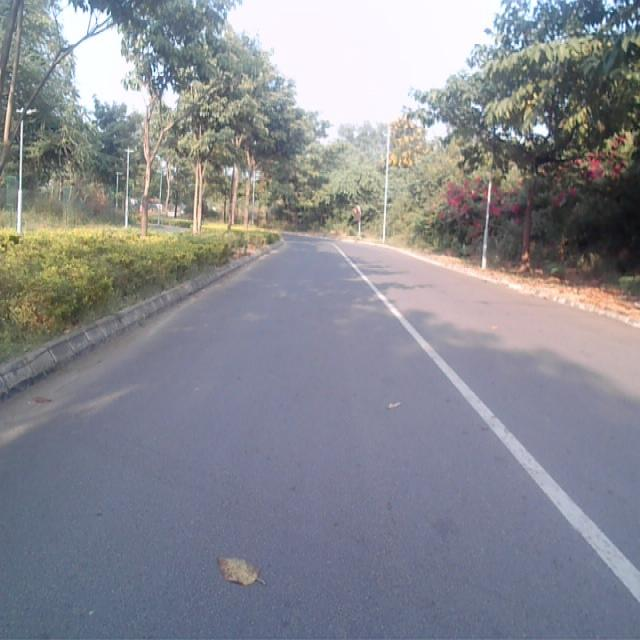lane: (0, 239, 640, 640)
